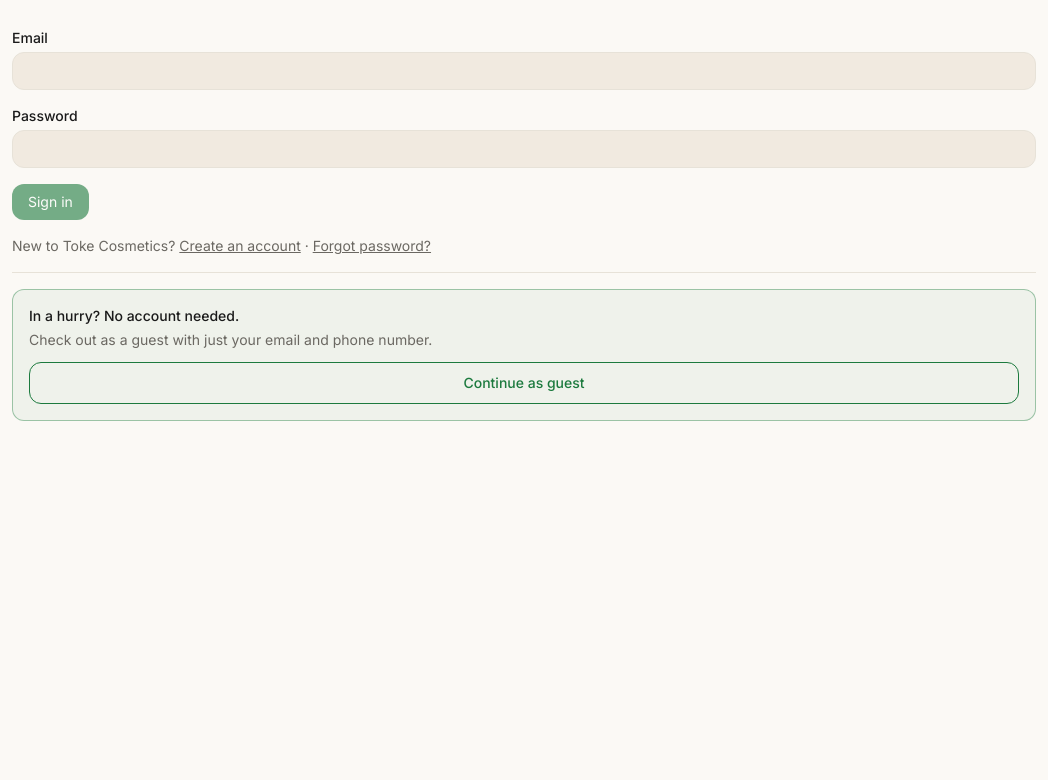
SignInStep › does NOT merge client-side after registering — the auth BFF owns that now
Click the button "Create an account" at (240, 246), box [179,236,301,256]
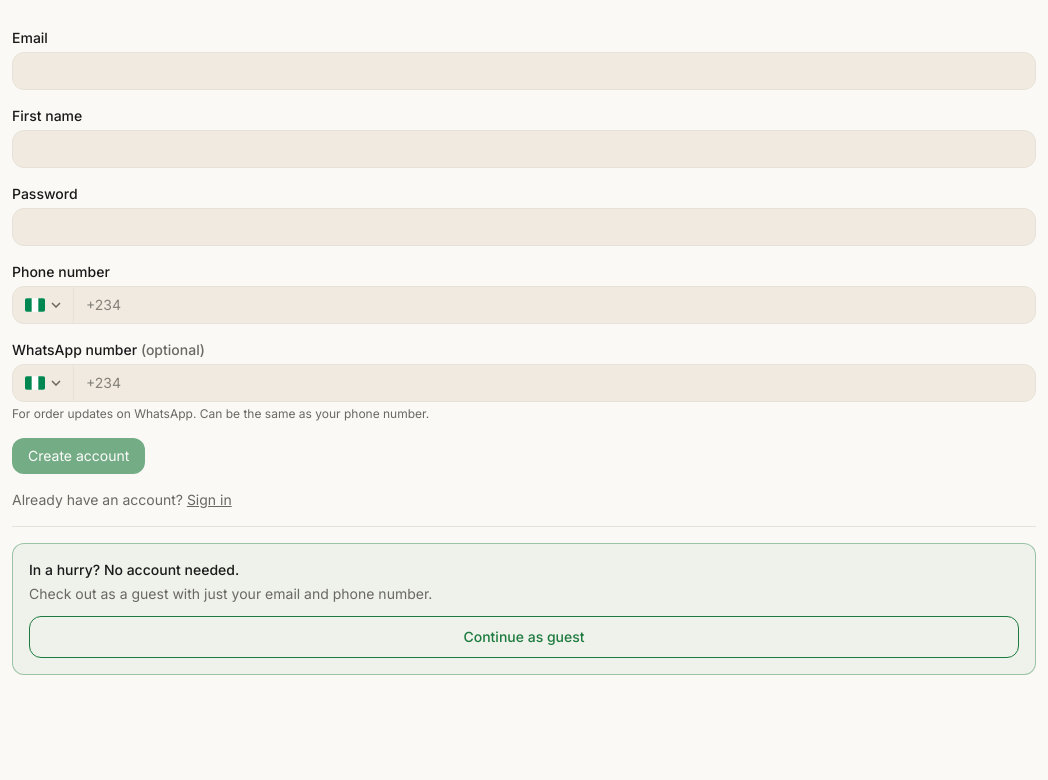
Expected: the field labelled "First name" is shown, [12,130,1036,168]
Type "shopper@example.com" into the field labelled "Email" at (524, 71), box [12,52,1036,90]
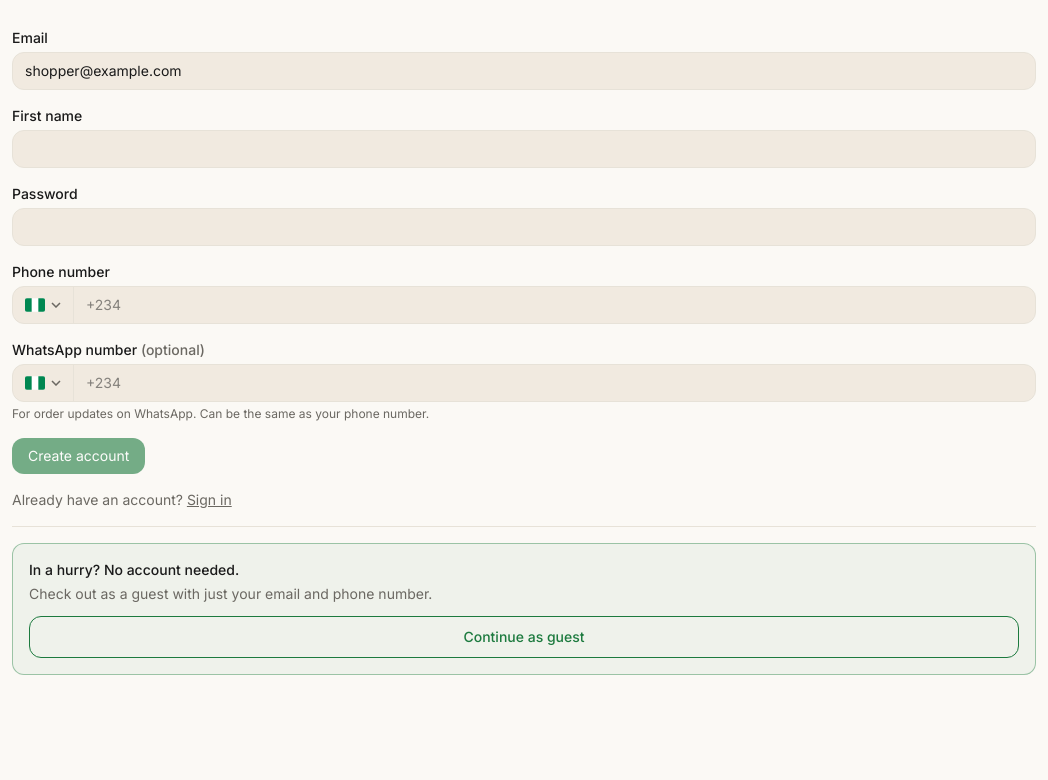
Type "Jane" into the field labelled "First name" at (524, 149), box [12,130,1036,168]
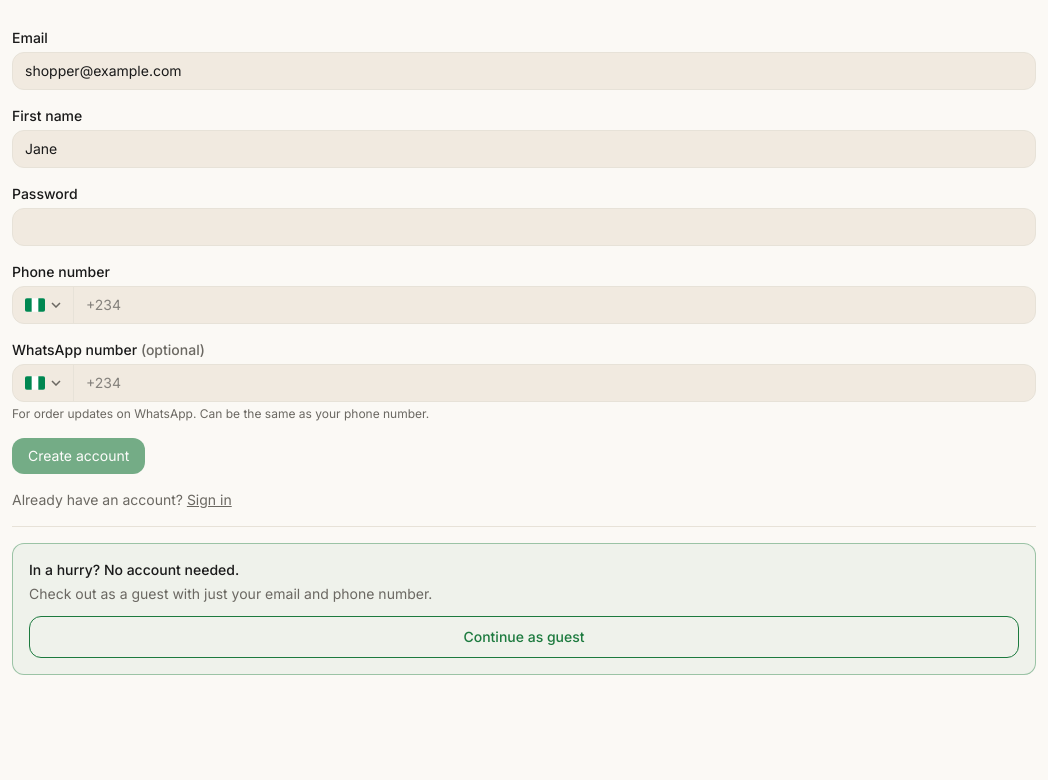
Type "Str0ngPassw0rd!" into the password field labelled "Password" at (524, 227), box [12,208,1036,246]
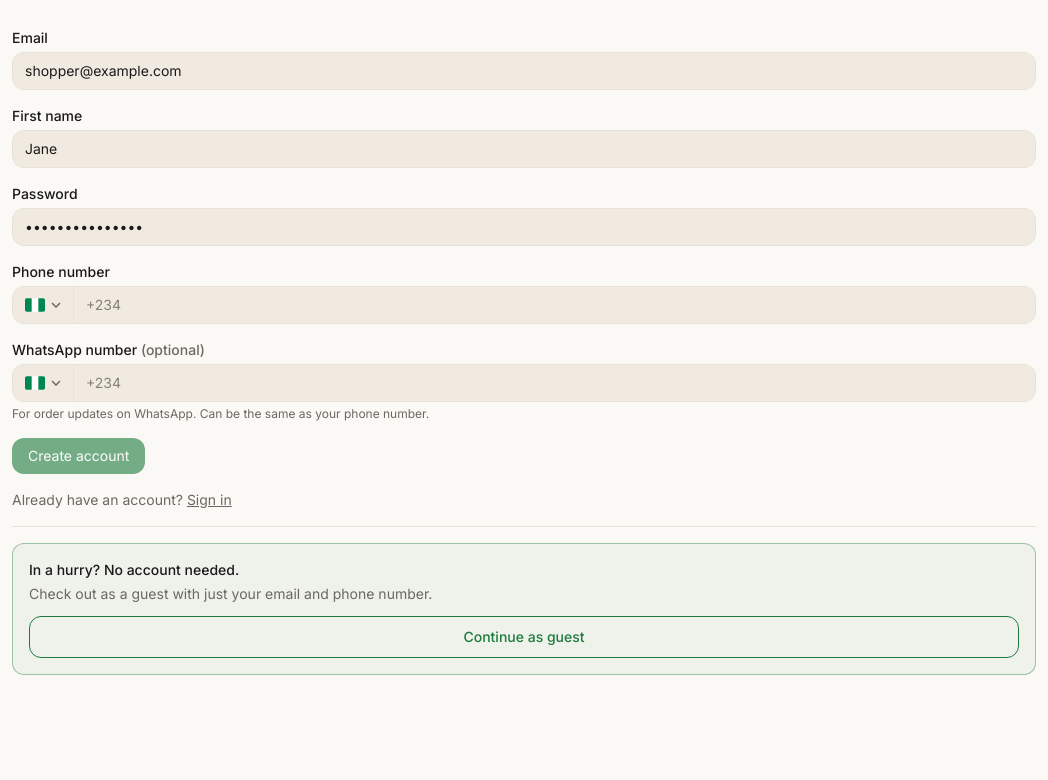
Type "+2348023900964" into the field labelled "Phone number" at (554, 305), box [74,287,1035,323]
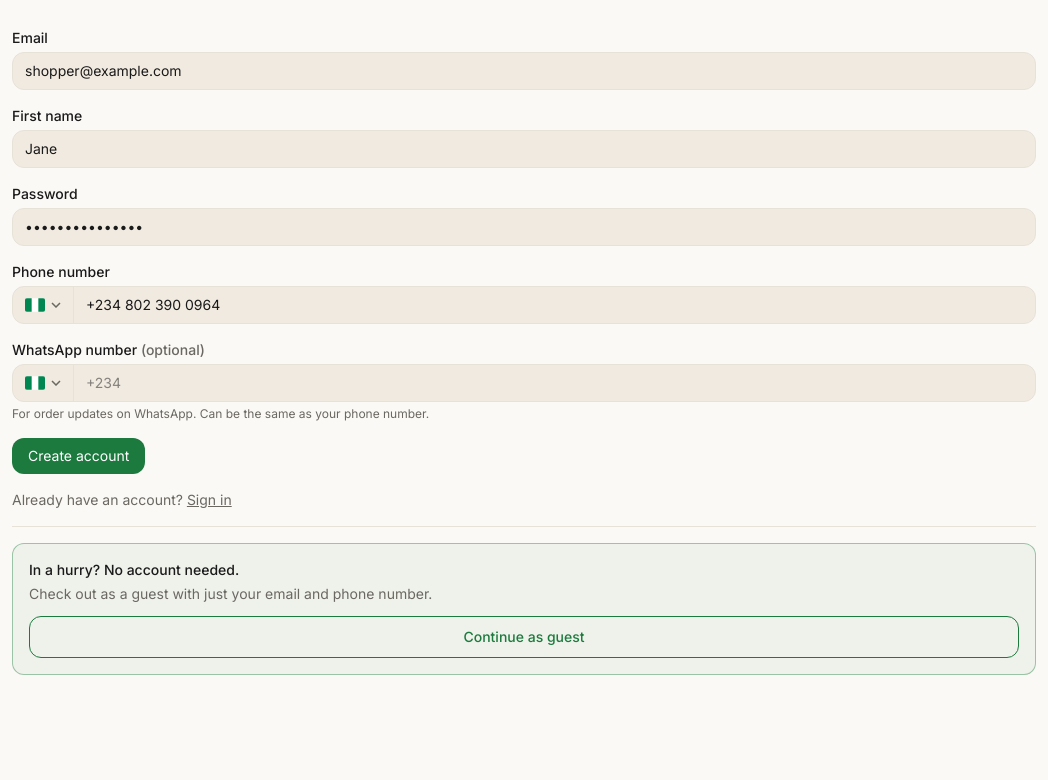
Click the button "Create account" at (79, 456), box [12,438,145,474]
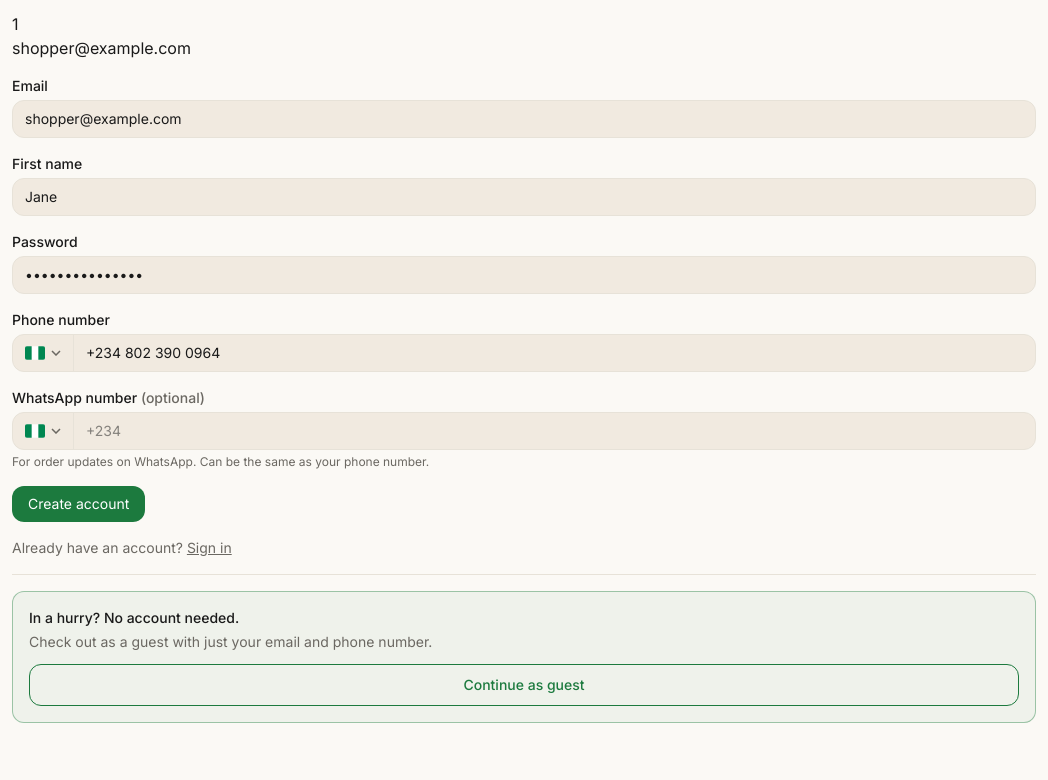
Result: the text with test id "completed" reads "1" at [12,14,18,34]
